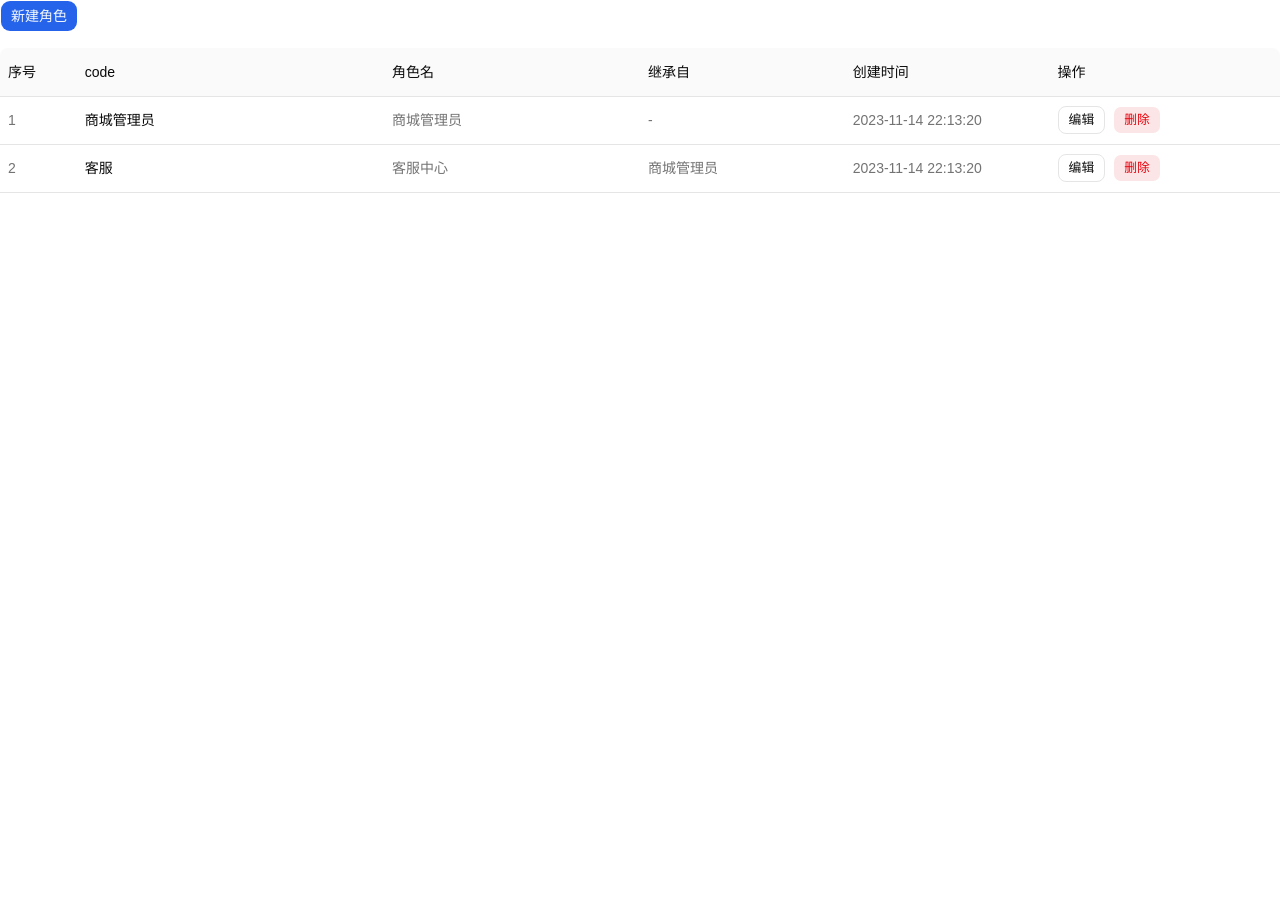
Test: 编辑对话框不提供修改 code 的输入框
This screenshot has width=1280, height=900.
Expected: the text "商城管理员" is shown, [85, 112, 155, 128]
Click the 1st button "编辑" at (1081,120), box [1058, 106, 1105, 134]
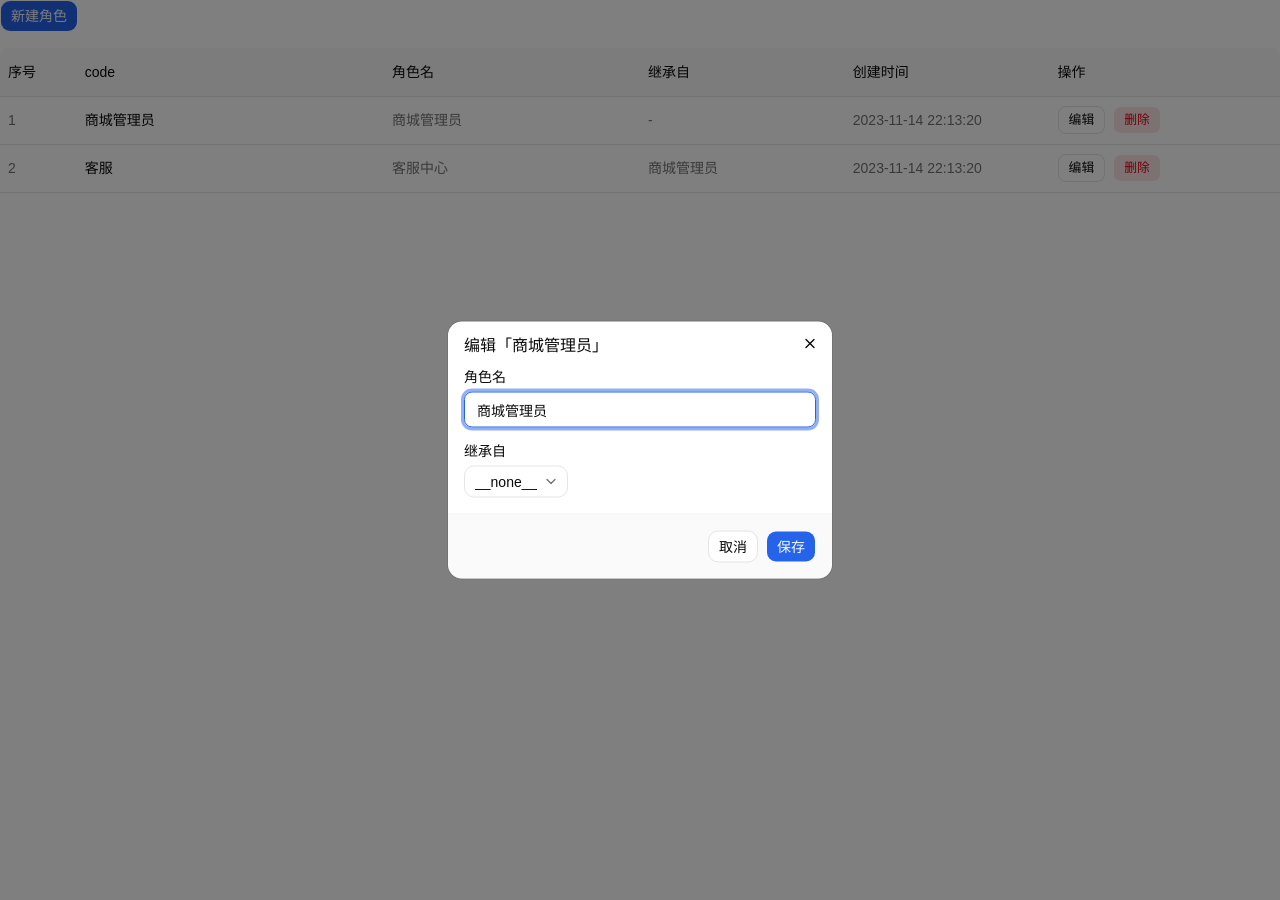
Expected: the field labelled "角色名" is shown, [464, 392, 816, 428]
